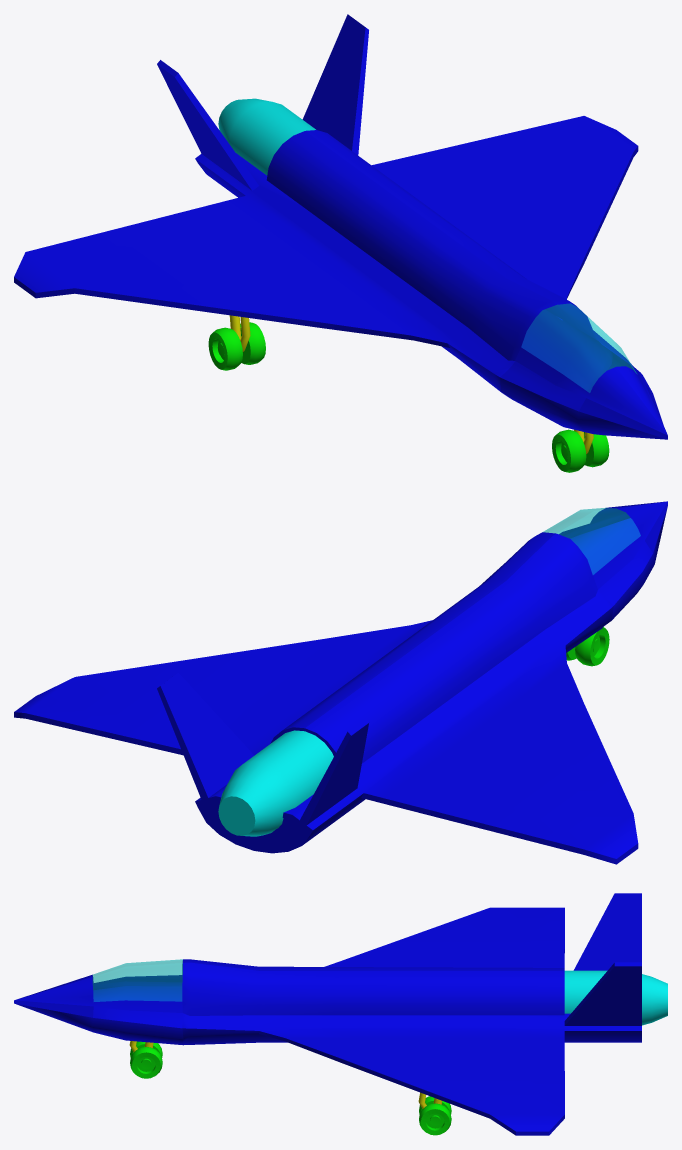
File: Fighter_jet_lowpoly_wip01.fbx
3 renders of one model, top to bottom at view 1: azimuth 30°, elevation 25°; view 2: azimuth 150°, elevation 25°; view 3: azimuth 270°, elevation 25°, orthographic. The views are drawn at different scales.
Parts seen in each view (by area): view 1: Mainplanemesh, Backexhaust, pCylinder34, pCylinder23, pCylinder30; view 2: Mainplanemesh, Backexhaust, pCylinder34; view 3: Mainplanemesh, Backexhaust, pCylinder32, pCylinder33.
Boxes of the visible parts, bbox=[...] form: Mainplanemesh: bbox=[14, 14, 667, 439]; Backexhaust: bbox=[218, 98, 315, 175]; pCylinder34: bbox=[552, 429, 586, 472]; pCylinder23: bbox=[208, 327, 242, 370]; pCylinder30: bbox=[240, 322, 265, 364]; Mainplanemesh: bbox=[14, 501, 667, 864]; Backexhaust: bbox=[218, 730, 333, 836]; pCylinder34: bbox=[575, 627, 609, 666]; Mainplanemesh: bbox=[14, 893, 641, 1135]; Backexhaust: bbox=[564, 970, 667, 1025]; pCylinder32: bbox=[419, 1103, 451, 1135]; pCylinder33: bbox=[130, 1046, 162, 1078].
Bounding box in the file's own units: 1839 × 559 × 2278.
